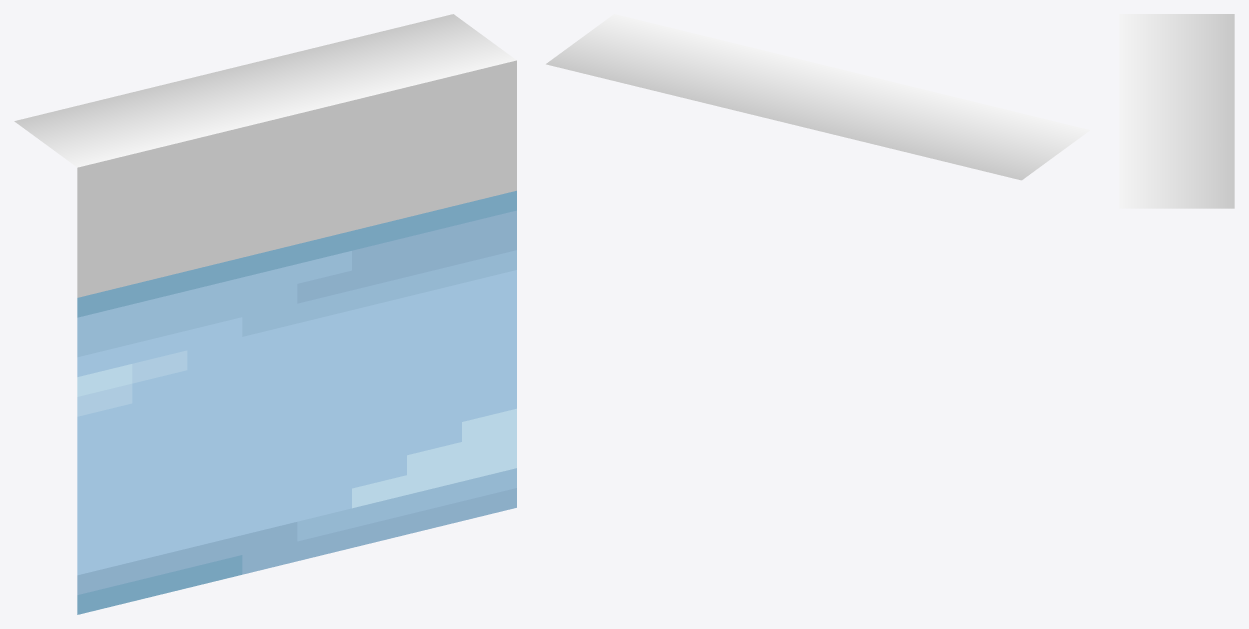
3 renders of one model, left to right at view 1: azimuth 30°, elevation 25°; view 2: azimuth 150°, elevation 25°; view 3: azimuth 270°, elevation 25°, orthographic. The views are drawn at different scales.
Bounding box in the file's own units: 1 × 0.9727 × 0.25.
Materials: 2 (2 with a texture image).
